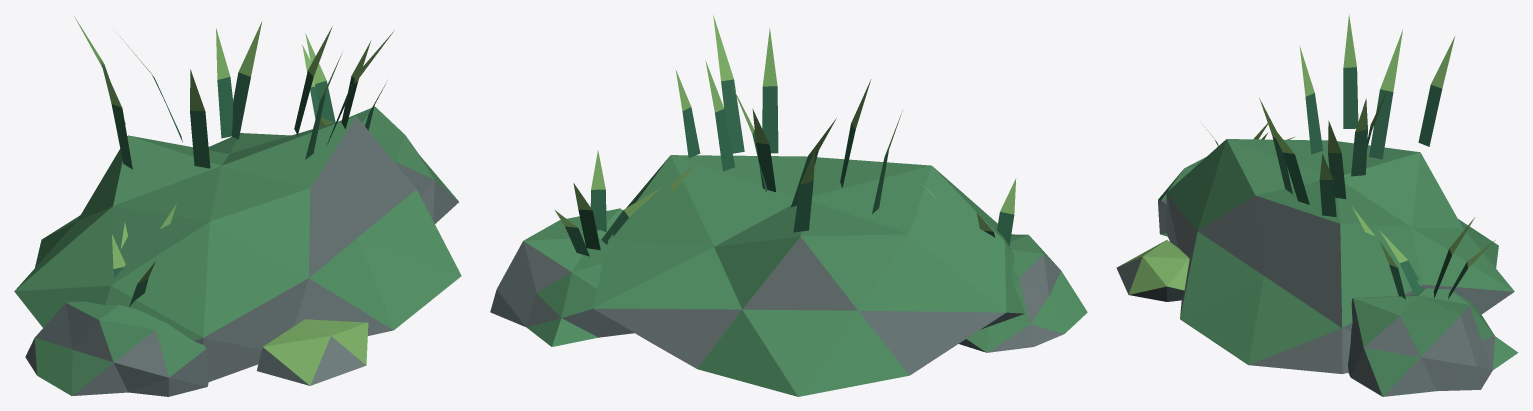
Rendered from sea_rock_a.glb.
3 views of the same model, side by side, from view 1: azimuth 30°, elevation 25°; view 2: azimuth 150°, elevation 25°; view 3: azimuth 270°, elevation 25° (orthographic). The views are drawn at different scales.
Parts seen in each view (by area): view 1: Body; view 2: Body; view 3: Body.
Part boxes in pixels (x1=…): Body: x1=14, y1=16, x2=461, y2=396; Body: x1=490, y1=15, x2=1087, y2=396; Body: x1=1116, y1=14, x2=1518, y2=396.
Bounding box in the file's own units: 2.32 × 1.14 × 1.86.
